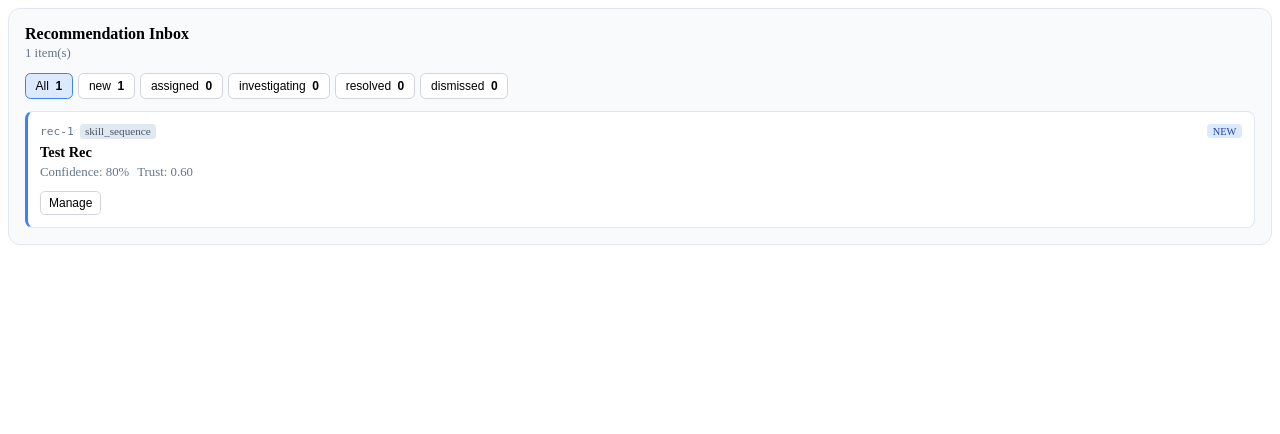
it: RecommendationInbox — handleUpdate error handling › shows actionError banner when PUT throws network error
expect the text "Test Rec" is shown: met, box [40, 144, 92, 160]
Click the button "Manage" at (71, 203), box [40, 191, 101, 215]
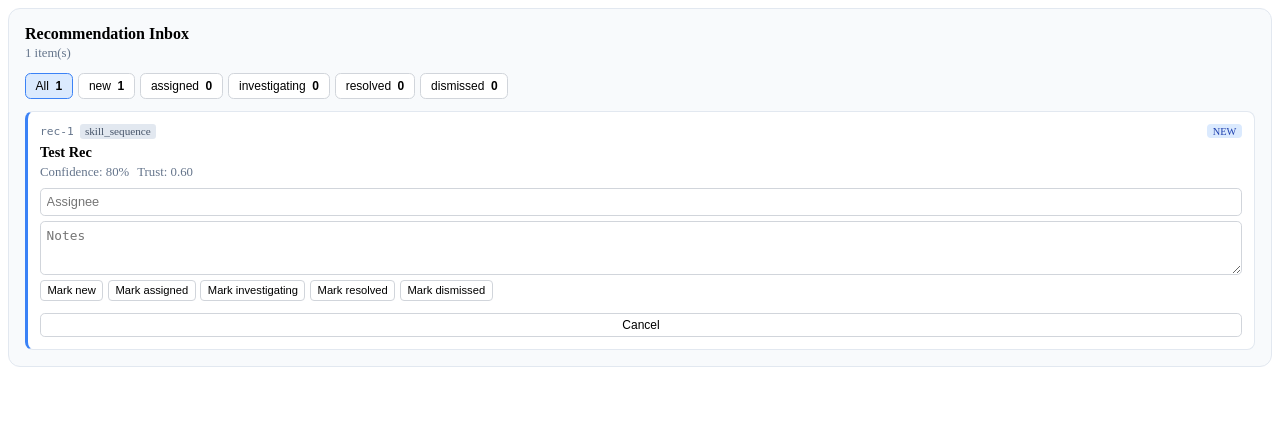
expect the button "Mark resolved" is shown: met
Click the button "Mark resolved" at (353, 290), box [310, 280, 395, 300]
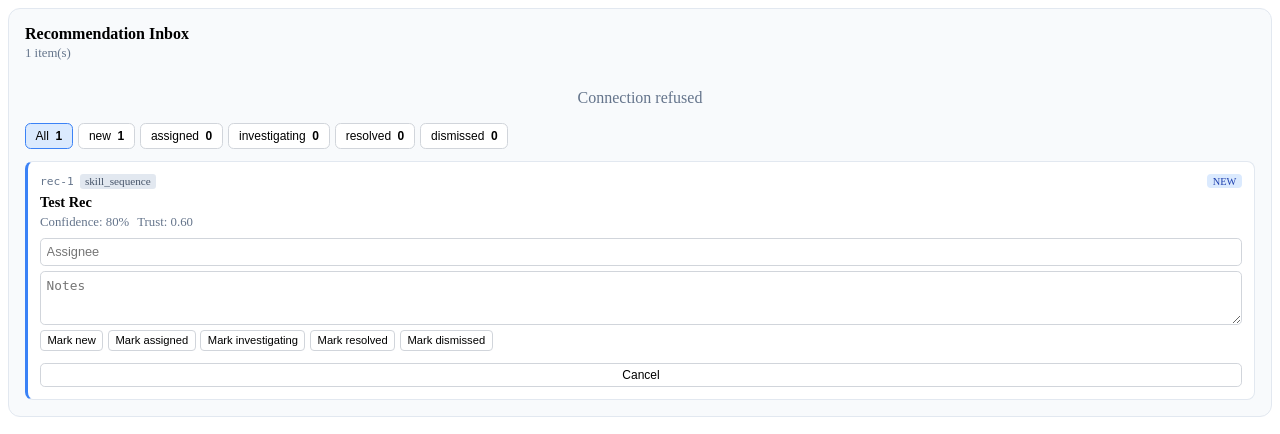
expect the text "Connection refused" is shown: met, box [578, 89, 702, 106]
